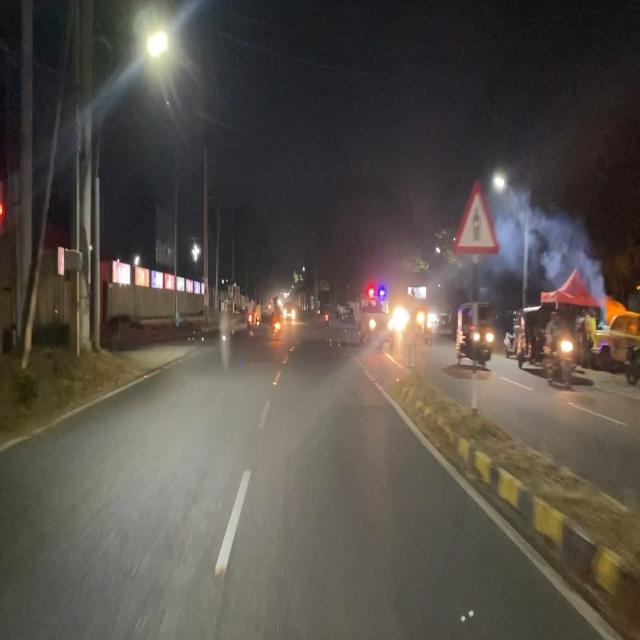bien_nguy_hiem: (454, 177, 498, 260)
